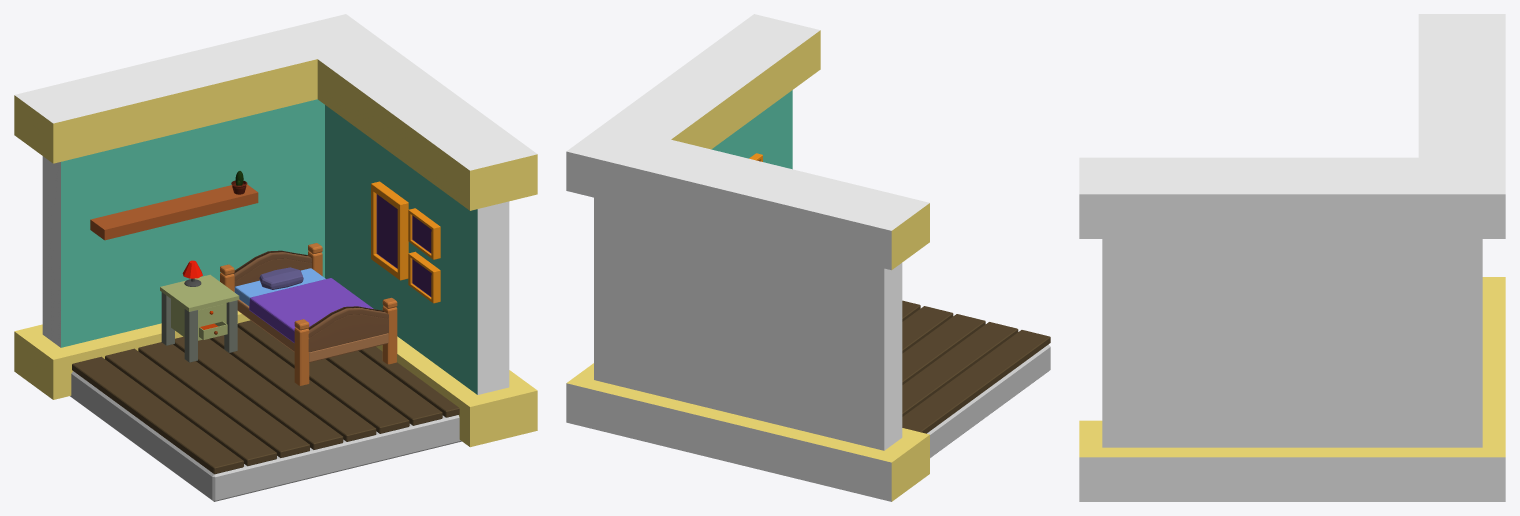
File: Room.obj
3 renders of one model, left to right at view 1: azimuth 30°, elevation 25°; view 2: azimuth 150°, elevation 25°; view 3: azimuth 270°, elevation 25°, orthographic. The views are drawn at different scales.
Visible parts, largest first — view 1: Cube, Plane.001, Plane, Cube.001, Plane.003, Cube.002, Plane.006, Plane.008, Plane.004, Plane.009, Plane.002, Plane.005 (+1 smaller); view 2: Cube, Plane.001, Plane; view 3: Cube.
Boxes of the visible parts, x1,y1,x2,y2 form: Cube: (14, 14, 537, 447); Plane.001: (72, 320, 459, 474); Plane: (70, 371, 461, 501); Cube.001: (371, 181, 440, 303); Plane.003: (234, 250, 388, 352); Cube.002: (90, 184, 258, 240); Plane.006: (249, 278, 373, 342); Plane.008: (160, 274, 239, 340); Plane.004: (220, 243, 397, 385); Plane.009: (161, 292, 237, 362); Plane.002: (237, 299, 388, 362); Plane.005: (234, 268, 325, 306); Cube: (566, 14, 929, 501); Plane.001: (902, 300, 1050, 433); Plane: (927, 344, 1050, 457); Cube: (1079, 14, 1505, 501).
Bounding box in the file's own units: 2.51 × 2.03 × 2.51.
